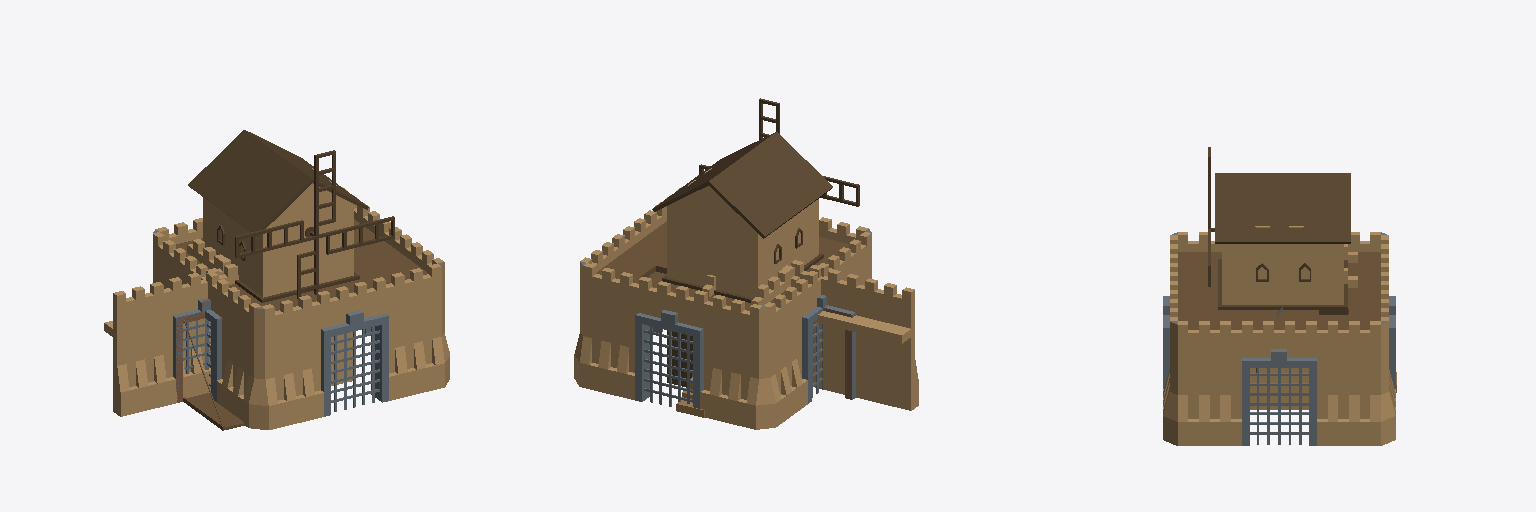
The picture shows the model from 3 angles: view 1: azimuth 30°, elevation 25°; view 2: azimuth 150°, elevation 25°; view 3: azimuth 270°, elevation 25°; orthographic projection.
Parts seen in each view (by area): view 1: castle_grp building_01, castle_grp mill, castle_grp door_02, castle_grp wall_01, castle_grp door_01, castle_grp corner_wall_02; view 2: castle_grp building_01, castle_grp mill, castle_grp wall_01, castle_grp door_02, castle_grp door_01, castle_grp corner_wall_02, castle_grp wall_02; view 3: castle_grp building_01, castle_grp mill.
Part boxes in pixels (x1,y1,x2,y2): castle_grp building_01: (153, 187, 449, 429); castle_grp mill: (188, 130, 394, 385); castle_grp door_02: (113, 266, 234, 416); castle_grp wall_01: (104, 264, 238, 402); castle_grp door_01: (136, 268, 244, 430); castle_grp corner_wall_02: (187, 239, 230, 270); castle_grp building_01: (574, 187, 871, 429); castle_grp mill: (652, 98, 859, 387); castle_grp wall_01: (792, 260, 914, 406); castle_grp door_02: (791, 263, 918, 410); castle_grp door_01: (824, 277, 892, 405); castle_grp corner_wall_02: (751, 265, 794, 305); castle_grp wall_02: (814, 286, 913, 360); castle_grp building_01: (1163, 232, 1395, 445); castle_grp mill: (1208, 147, 1350, 409).
Bounding box in the file's own units: 1235 × 993 × 875.
1 materials, 1 textured.